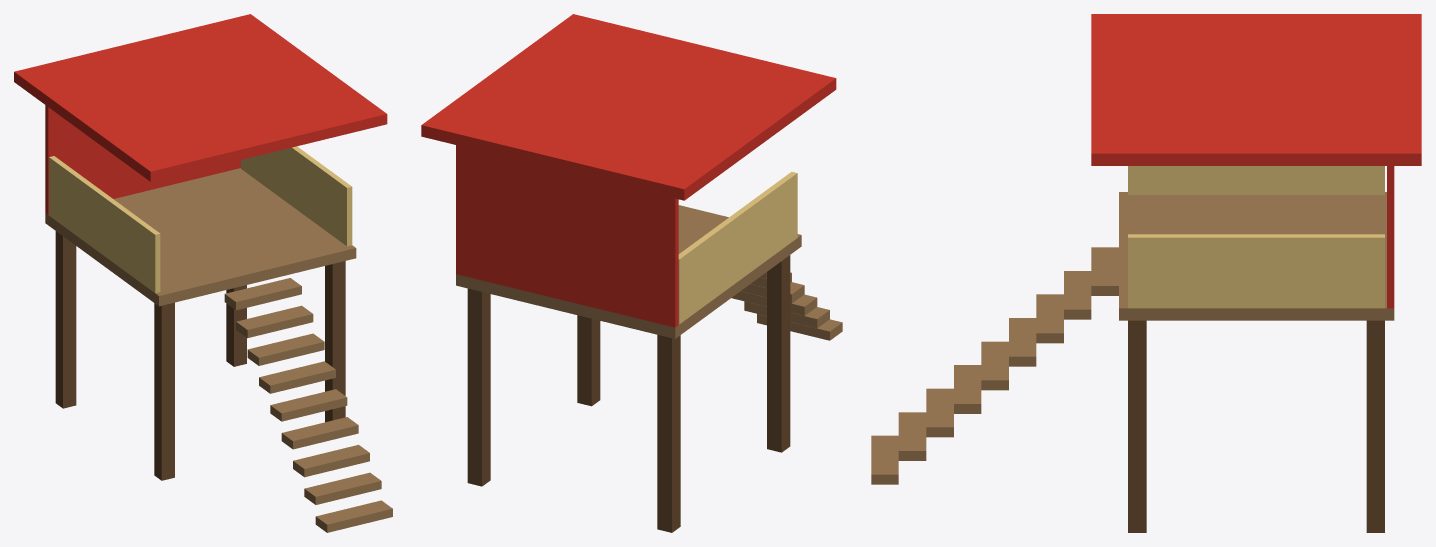
Rendered from posto_salvavidas_a.glb.
3 renders of one model, left to right at view 1: azimuth 30°, elevation 25°; view 2: azimuth 150°, elevation 25°; view 3: azimuth 270°, elevation 25°, orthographic. The views are drawn at different scales.
Visible parts, largest first — view 1: posto_salvavidas_a; view 2: posto_salvavidas_a; view 3: posto_salvavidas_a.
Boxes of the visible parts, left/top/right/bottom form: posto_salvavidas_a: left=14, top=14, right=392, bottom=532; posto_salvavidas_a: left=421, top=14, right=842, bottom=532; posto_salvavidas_a: left=871, top=14, right=1421, bottom=532.
Bounding box in the file's own units: 3.6 × 4.75 × 6.
